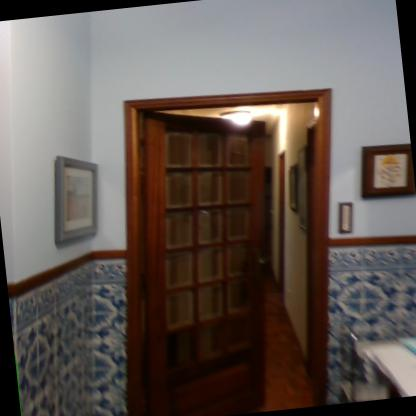semi: (104, 71, 370, 415)
